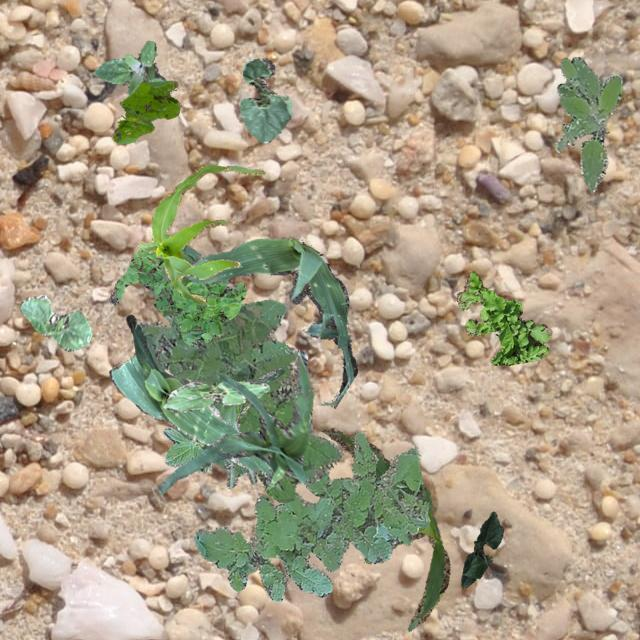crop: (108, 314, 282, 488), (184, 236, 356, 406), (321, 427, 448, 630), (156, 348, 308, 492), (136, 164, 264, 304), (195, 366, 282, 488), (238, 58, 290, 142), (18, 294, 90, 351), (162, 379, 268, 412), (460, 511, 502, 586), (162, 428, 210, 472)
weed: (138, 243, 342, 502), (192, 430, 428, 600), (108, 246, 244, 344), (554, 56, 622, 192), (456, 270, 550, 364), (112, 80, 180, 142), (92, 40, 164, 94)
